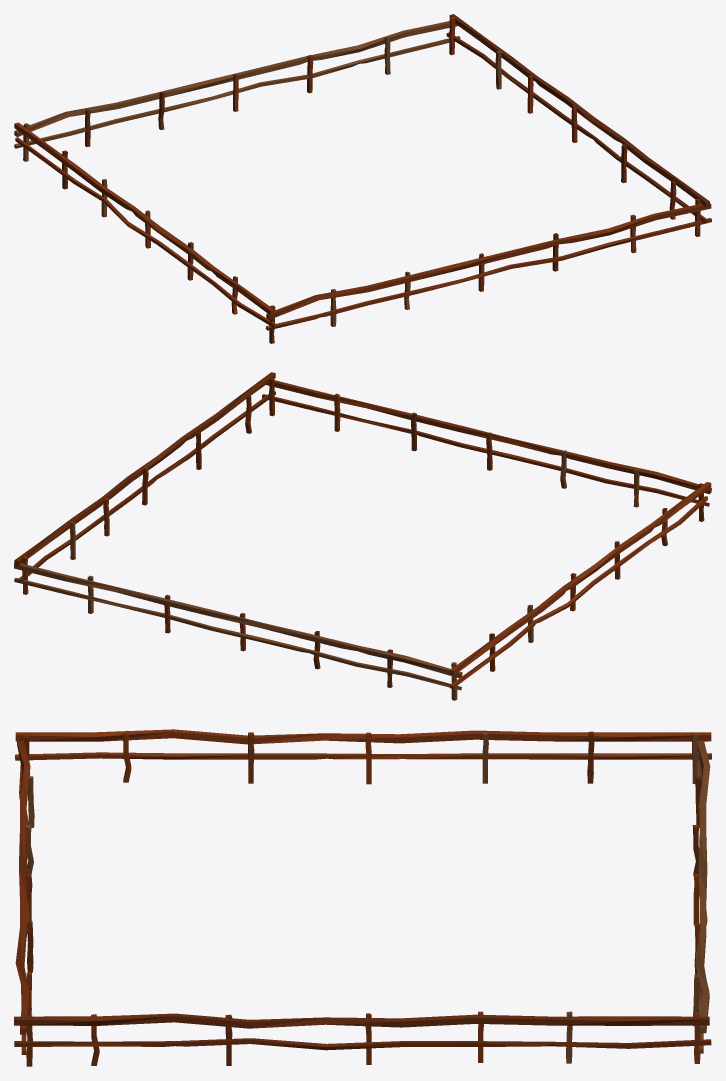
The model's file is fence.fbx.
3 views of the same model, one above another, from view 1: azimuth 30°, elevation 25°; view 2: azimuth 150°, elevation 25°; view 3: azimuth 270°, elevation 25° (orthographic). The views are drawn at different scales.
Parts seen in each view (by area): view 1: recinto; view 2: recinto; view 3: recinto.
Boxes of the visible parts, <box> form: recinto: <box>14,14,711,343</box>; recinto: <box>14,372,711,700</box>; recinto: <box>14,729,711,1066</box>.
Size of the model in its own units: 1547 by 135 by 1541.
